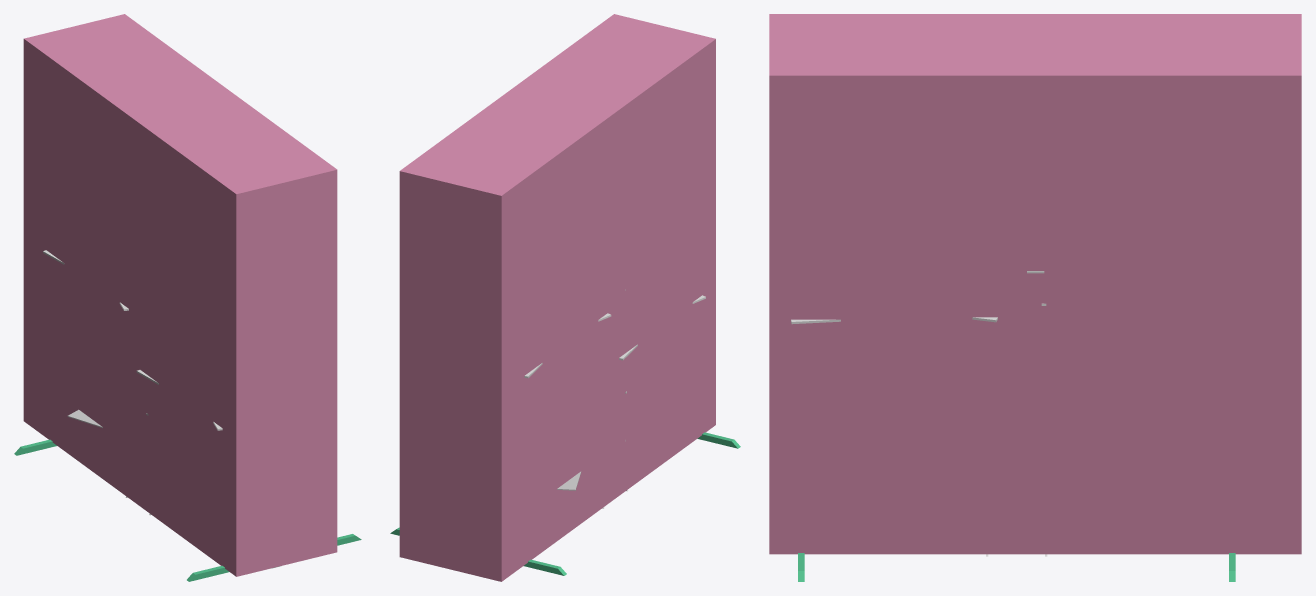
File: ind_obj_03_b.dae
3 renders of one model, left to right at view 1: azimuth 30°, elevation 25°; view 2: azimuth 150°, elevation 25°; view 3: azimuth 270°, elevation 25°, orthographic. The views are drawn at different scales.
Parts seen in each view (by area): view 1: Untitled, Colmesh-1; view 2: Untitled, Colmesh-1; view 3: Untitled.
Part boxes in pixels (bbox=[...]): Untitled: bbox=[23, 14, 337, 576]; Colmesh-1: bbox=[14, 439, 361, 581]; Untitled: bbox=[399, 14, 715, 581]; Colmesh-1: bbox=[390, 432, 740, 575]; Untitled: bbox=[769, 14, 1301, 554].
Bounding box in the file's own units: 2.96 × 6.31 × 6.43.
